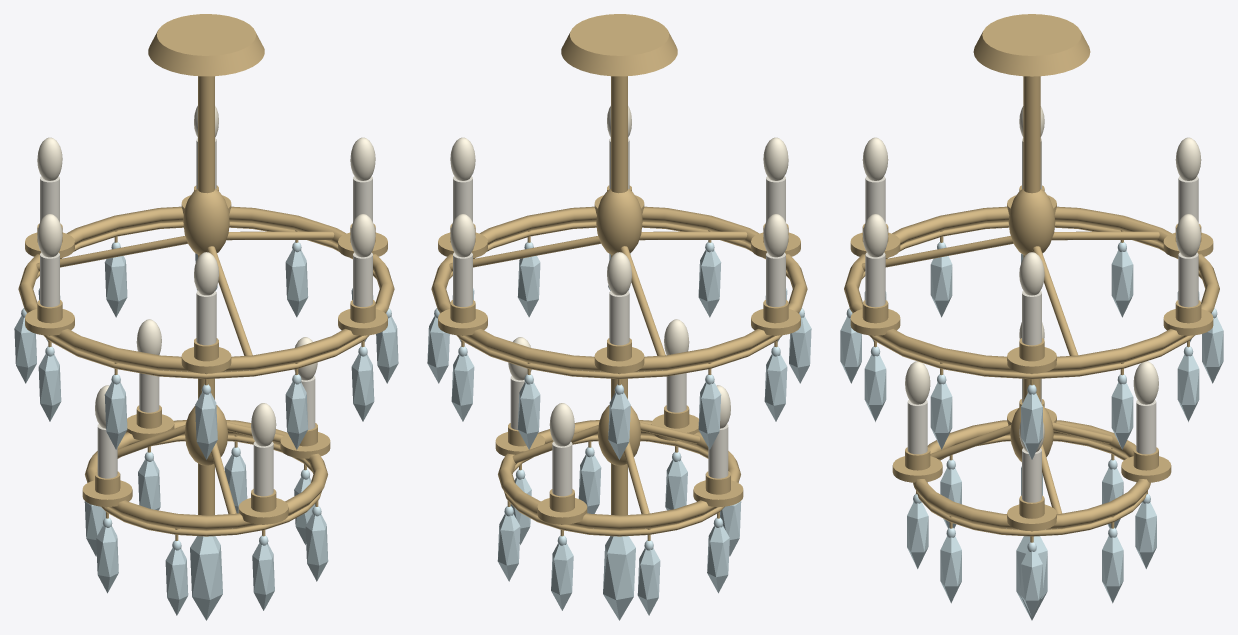
File: chandelier_crystal_tier.glb
The picture shows the model from 3 angles, left to right: view 1: azimuth 30°, elevation 25°; view 2: azimuth 150°, elevation 25°; view 3: azimuth 270°, elevation 25°; orthographic projection.
Visible parts, largest first — view 1: Upper structural gold ring, Ceiling canopy, Lower structural gold ring, Upper lower gold ring trim, Main gold suspension, Upper decorated hub, Center pendant crystal, Lower lower gold ring trim, Lower attached faceted crystal 5, Lower attached faceted crystal 7, Upper attached faceted crystal 7, Upper attached faceted crystal 9 (+42 smaller); view 2: Upper structural gold ring, Ceiling canopy, Lower structural gold ring, Upper lower gold ring trim, Main gold suspension, Upper decorated hub, Center pendant crystal, Lower lower gold ring trim, Lower attached faceted crystal 3, Lower attached faceted crystal 5, Upper attached faceted crystal 5, Upper attached faceted crystal 7 (+42 smaller); view 3: Upper structural gold ring, Ceiling canopy, Lower structural gold ring, Upper lower gold ring trim, Upper decorated hub, Main gold suspension, Lower lower gold ring trim, Upper spoke 3, Upper attached faceted crystal 12, Upper attached faceted crystal 2, Upper attached faceted crystal 6, Upper attached faceted crystal 11 (+41 smaller).
Boxes of the visible parts, x1,y1,x2,y2 form: Upper structural gold ring: (18,206,394,371); Ceiling canopy: (148,14,264,76); Lower structural gold ring: (85,420,327,530); Upper lower gold ring trim: (36,221,376,379); Main gold suspension: (198,76,214,515); Upper decorated hub: (183,189,229,255); Center pendant crystal: (190,536,222,620); Lower lower gold ring trim: (101,435,321,536); Lower attached faceted crystal 5: (96,525,118,593); Lower attached faceted crystal 7: (252,543,274,610); Upper attached faceted crystal 7: (38,354,61,421); Upper attached faceted crystal 9: (195,392,217,459); Upper structural gold ring: (431,206,807,371); Ceiling canopy: (561,14,677,76); Lower structural gold ring: (498,420,740,530); Upper lower gold ring trim: (449,221,789,379); Main gold suspension: (611,76,627,515); Upper decorated hub: (596,189,642,255); Center pendant crystal: (603,536,635,620); Lower lower gold ring trim: (504,435,724,536); Lower attached faceted crystal 3: (551,543,573,610); Lower attached faceted crystal 5: (707,525,729,593); Upper attached faceted crystal 5: (608,392,630,459); Upper attached faceted crystal 7: (764,354,787,421); Upper structural gold ring: (844,206,1219,371); Ceiling canopy: (973,14,1090,76); Lower structural gold ring: (913,420,1150,529); Upper lower gold ring trim: (852,221,1211,379); Upper decorated hub: (1008,189,1055,255); Main gold suspension: (1023,76,1040,401); Lower lower gold ring trim: (916,435,1147,536); Upper spoke 3: (861,236,1013,271); Upper attached faceted crystal 12: (930,382,952,449); Upper attached faceted crystal 2: (1111,382,1133,449); Upper attached faceted crystal 6: (1111,250,1133,317); Upper attached faceted crystal 11: (864,354,886,421).
Size of the model in its own units: 0.774 by 1.22 by 0.7208.
